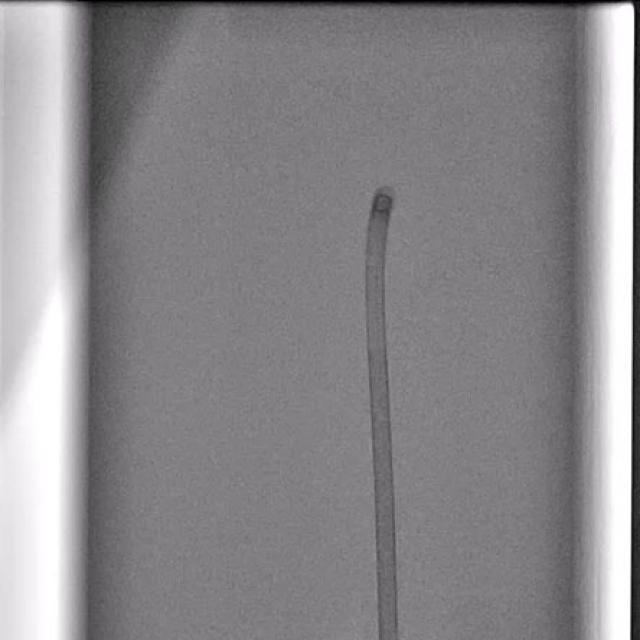bend: (368, 340, 386, 354)
entry: (379, 635, 398, 640)
marker: (372, 193, 393, 214)
tip: (375, 186, 394, 198)
